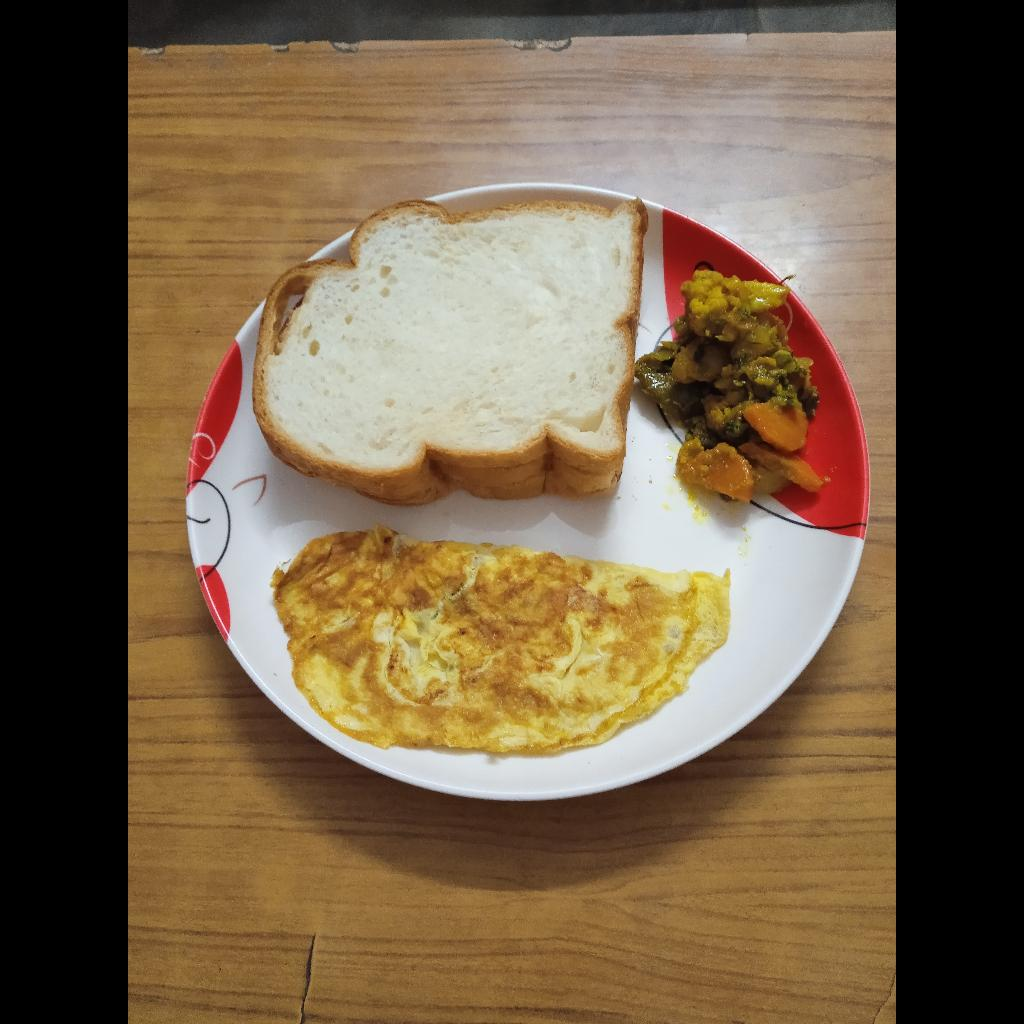bread: (255, 190, 633, 508)
egg-poached: (274, 537, 724, 766)
vegetable: (643, 266, 815, 501)
